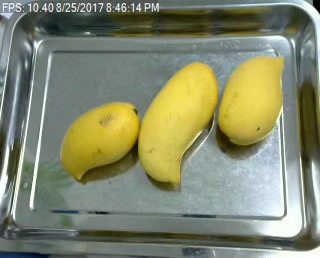Mango: (135, 62, 217, 185), (58, 99, 142, 181), (215, 53, 288, 146)
